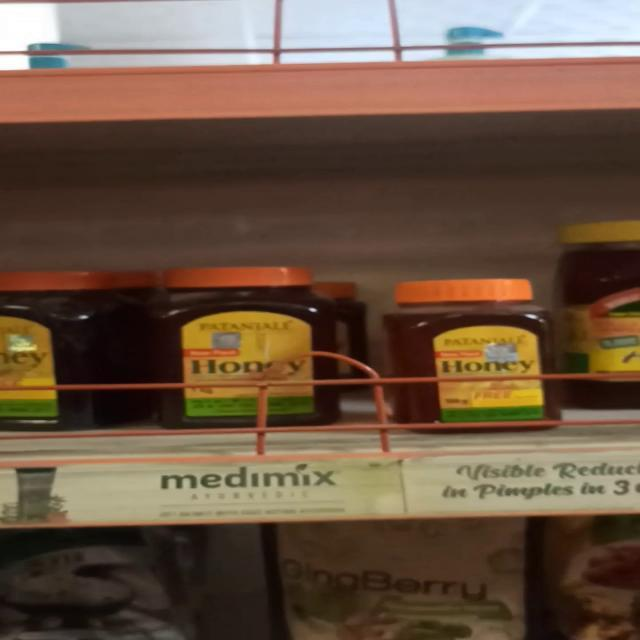Patanjali Honey: (157, 265, 329, 422), (391, 282, 554, 431)
